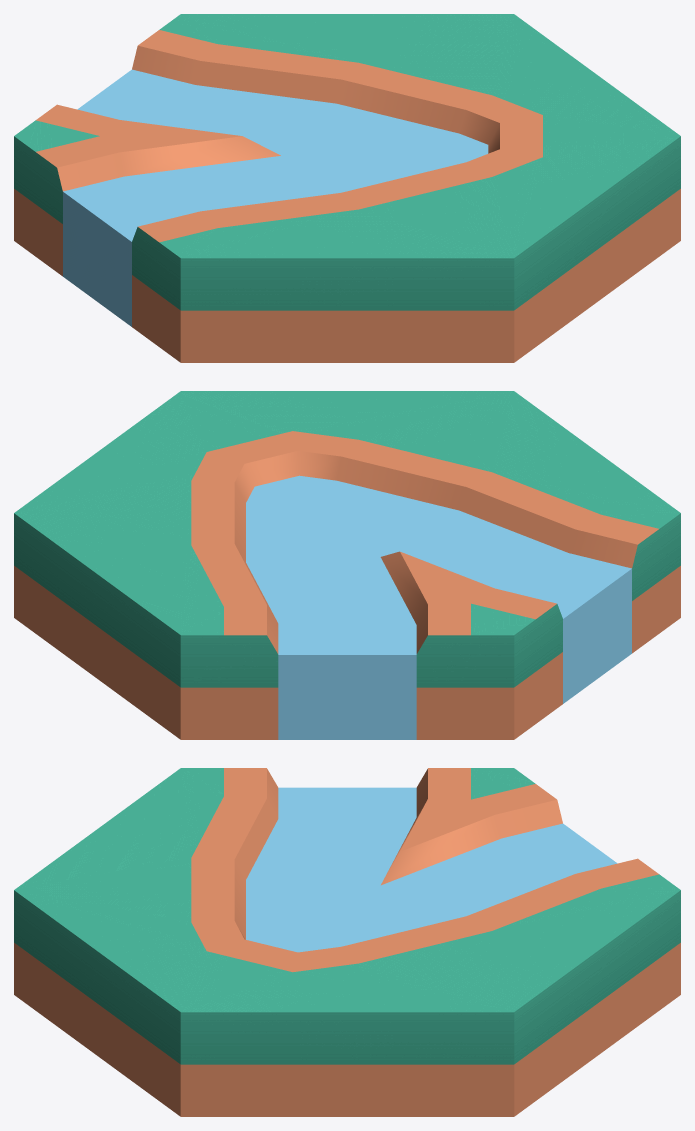
Rendered from river-corner-sharp.glb.
3 views of the same model, one above another, from view 1: azimuth 30°, elevation 25°; view 2: azimuth 150°, elevation 25°; view 3: azimuth 270°, elevation 25° (orthographic).
Parts seen in each view (by area): view 1: river-corner-sharp; view 2: river-corner-sharp; view 3: river-corner-sharp.
Part boxes in pixels (x1,y1,x2,y2): river-corner-sharp: [14, 14, 680, 362]; river-corner-sharp: [14, 391, 680, 739]; river-corner-sharp: [14, 768, 680, 1116].
Size of the model in its own units: 1 by 0.2 by 1.15.
1 material, 1 textured.
